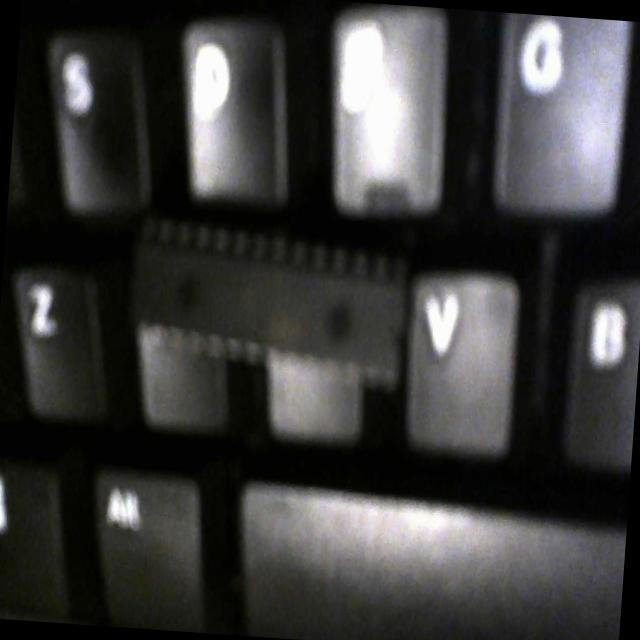atmega: (120, 195, 420, 395)
